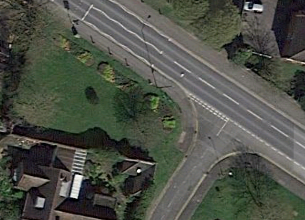tree: (104, 76, 181, 150)
